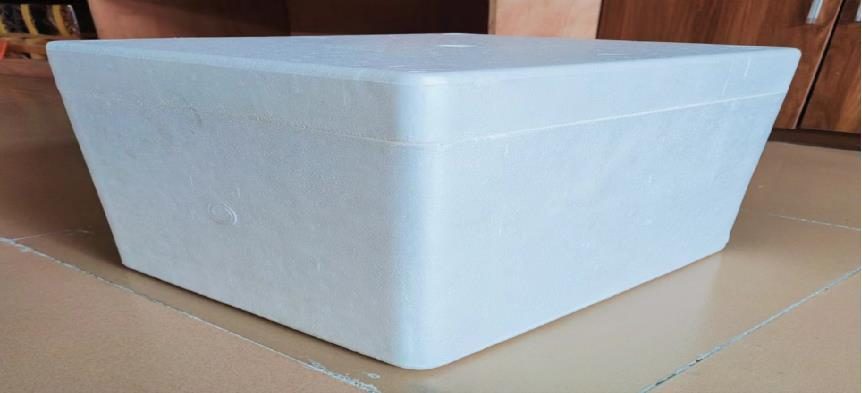Boxes: (47, 34, 798, 369)
